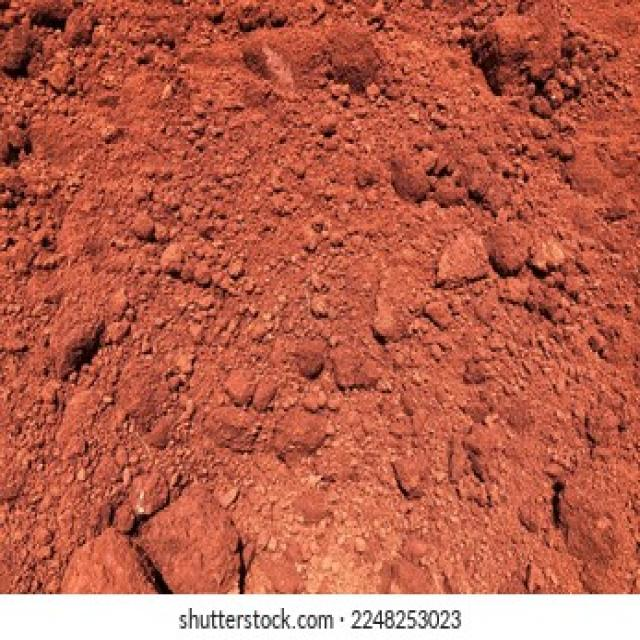Red Soil: (64, 76, 583, 540)
